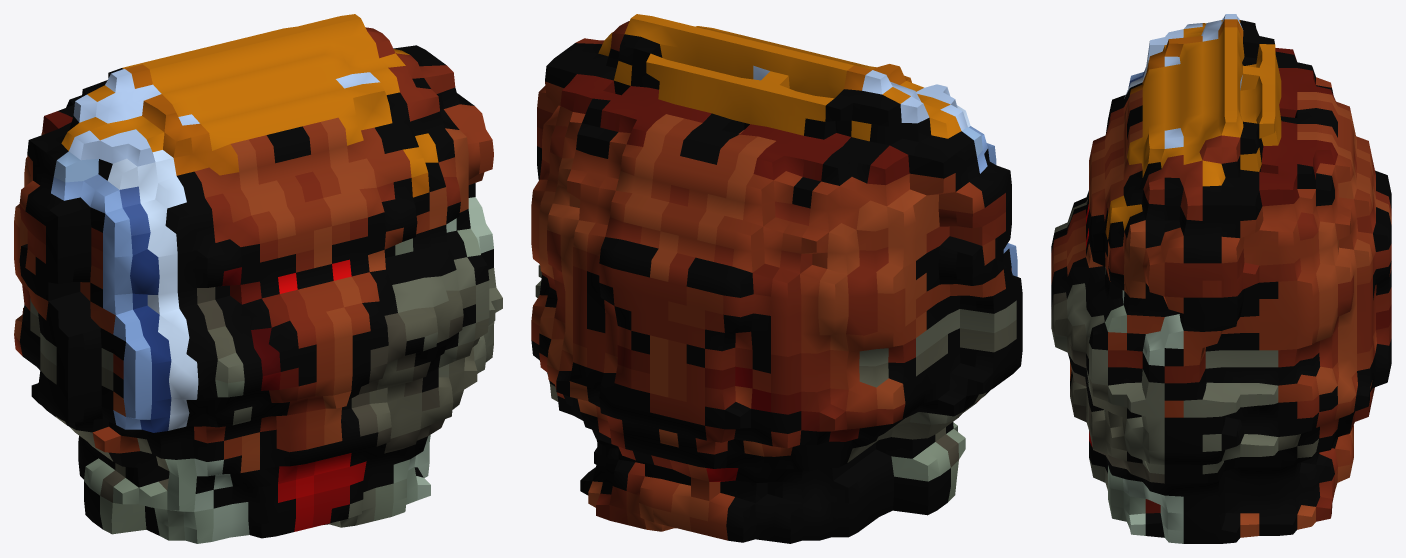
File: Icon_015_01.obj
3 renders of one model, left to right at view 1: azimuth 30°, elevation 25°; view 2: azimuth 150°, elevation 25°; view 3: azimuth 270°, elevation 25°, orthographic. The views are drawn at different scales.
Size of the model in its own units: 2.4 by 2.38 by 1.8.
1 material, 1 textured.
